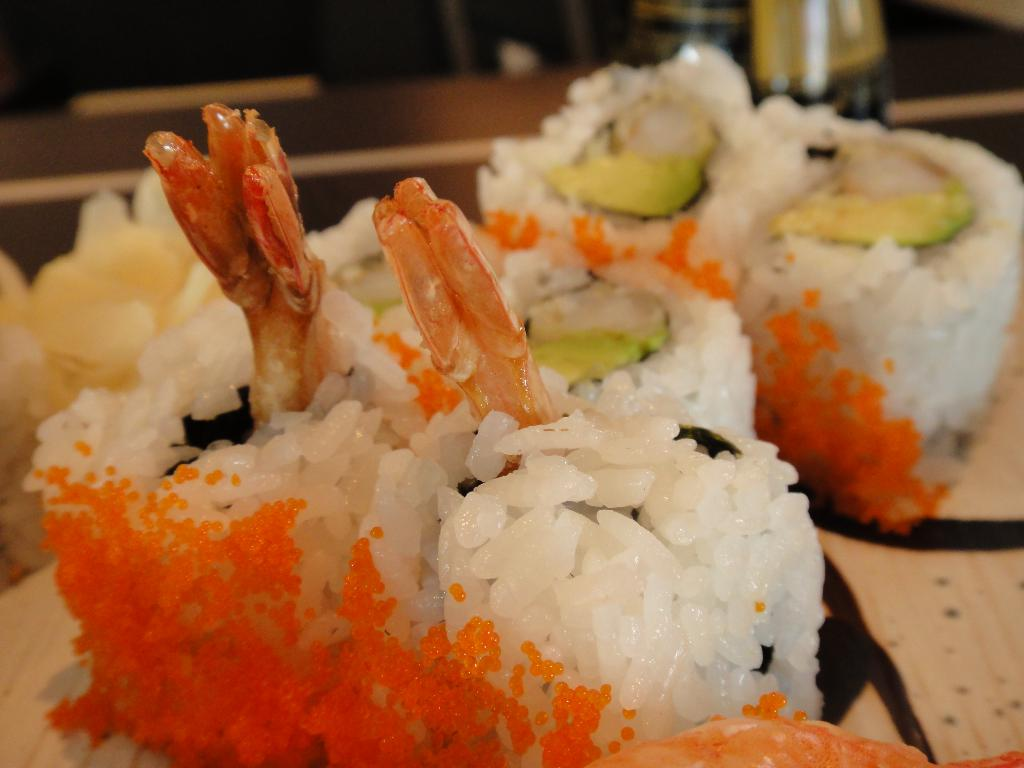sushi: (0, 38, 1023, 767), (462, 29, 753, 264)
